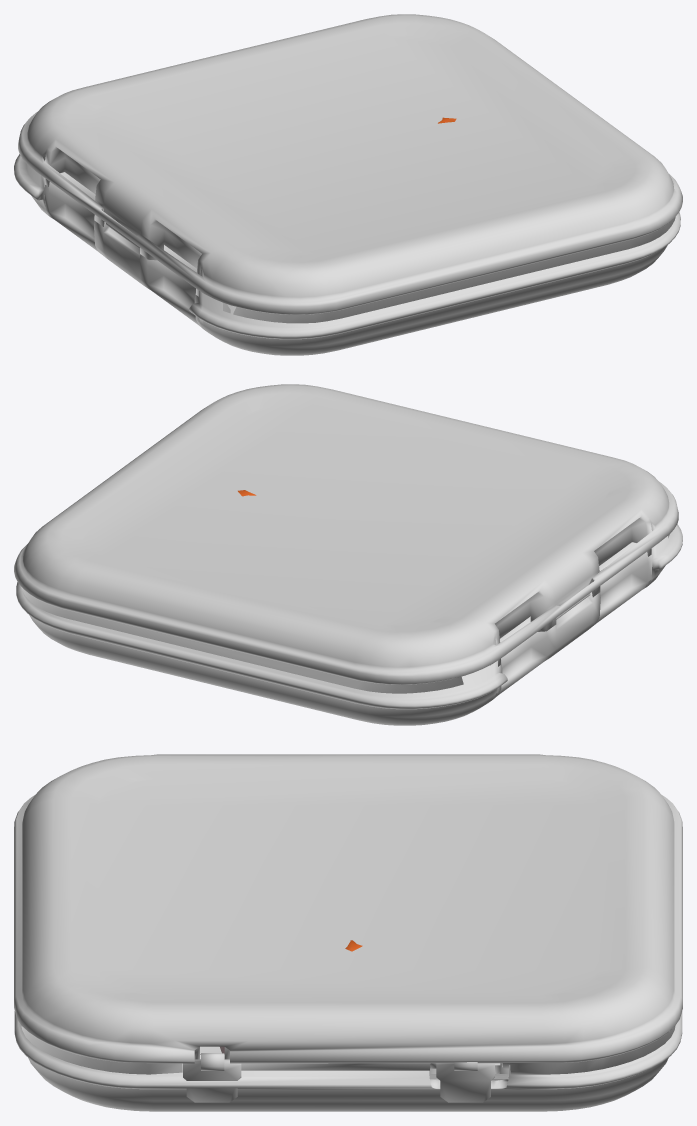
The model's file is ac-halloween-nails.glb.
3 renders of one model, top to bottom at view 1: azimuth 30°, elevation 25°; view 2: azimuth 150°, elevation 25°; view 3: azimuth 270°, elevation 25°, orthographic. The views are drawn at different scales.
Parts seen in each view (by area): view 1: case; view 2: case; view 3: case.
Part boxes in pixels (box(x1,y1,x2,y2)): case: box(14, 14, 682, 355); case: box(14, 384, 682, 725); case: box(14, 754, 682, 1111).
Size of the model in its own units: 0.8439 by 0.1513 by 0.8443.
2 materials, 1 textured.
